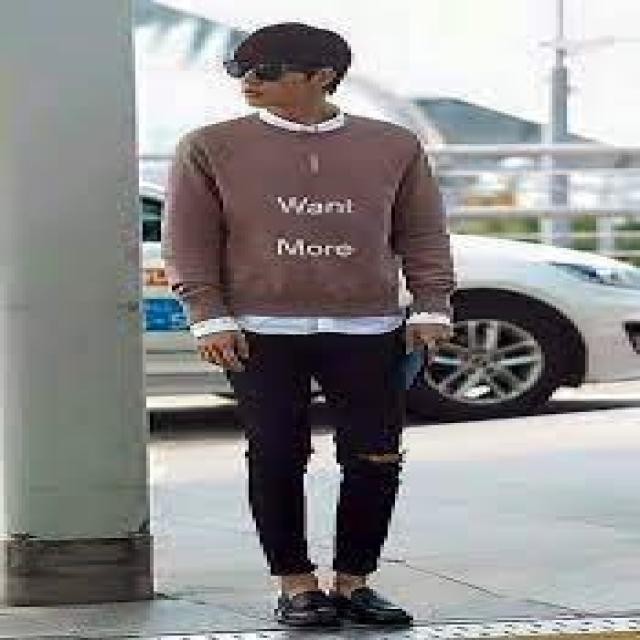pants: (218, 316, 415, 581)
sweater: (161, 107, 457, 331)
